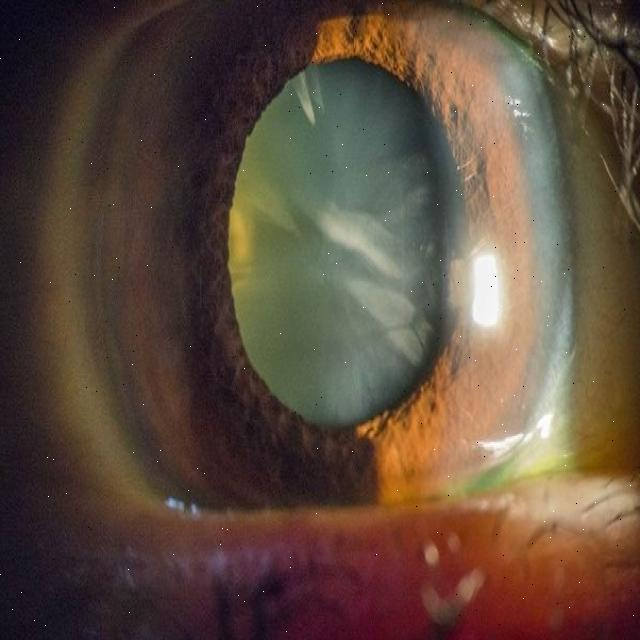Cataract: (85, 0, 570, 560)
